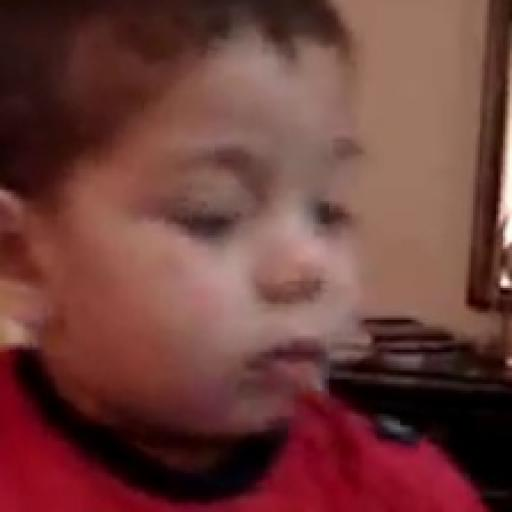Autism: (16, 13, 397, 439)
